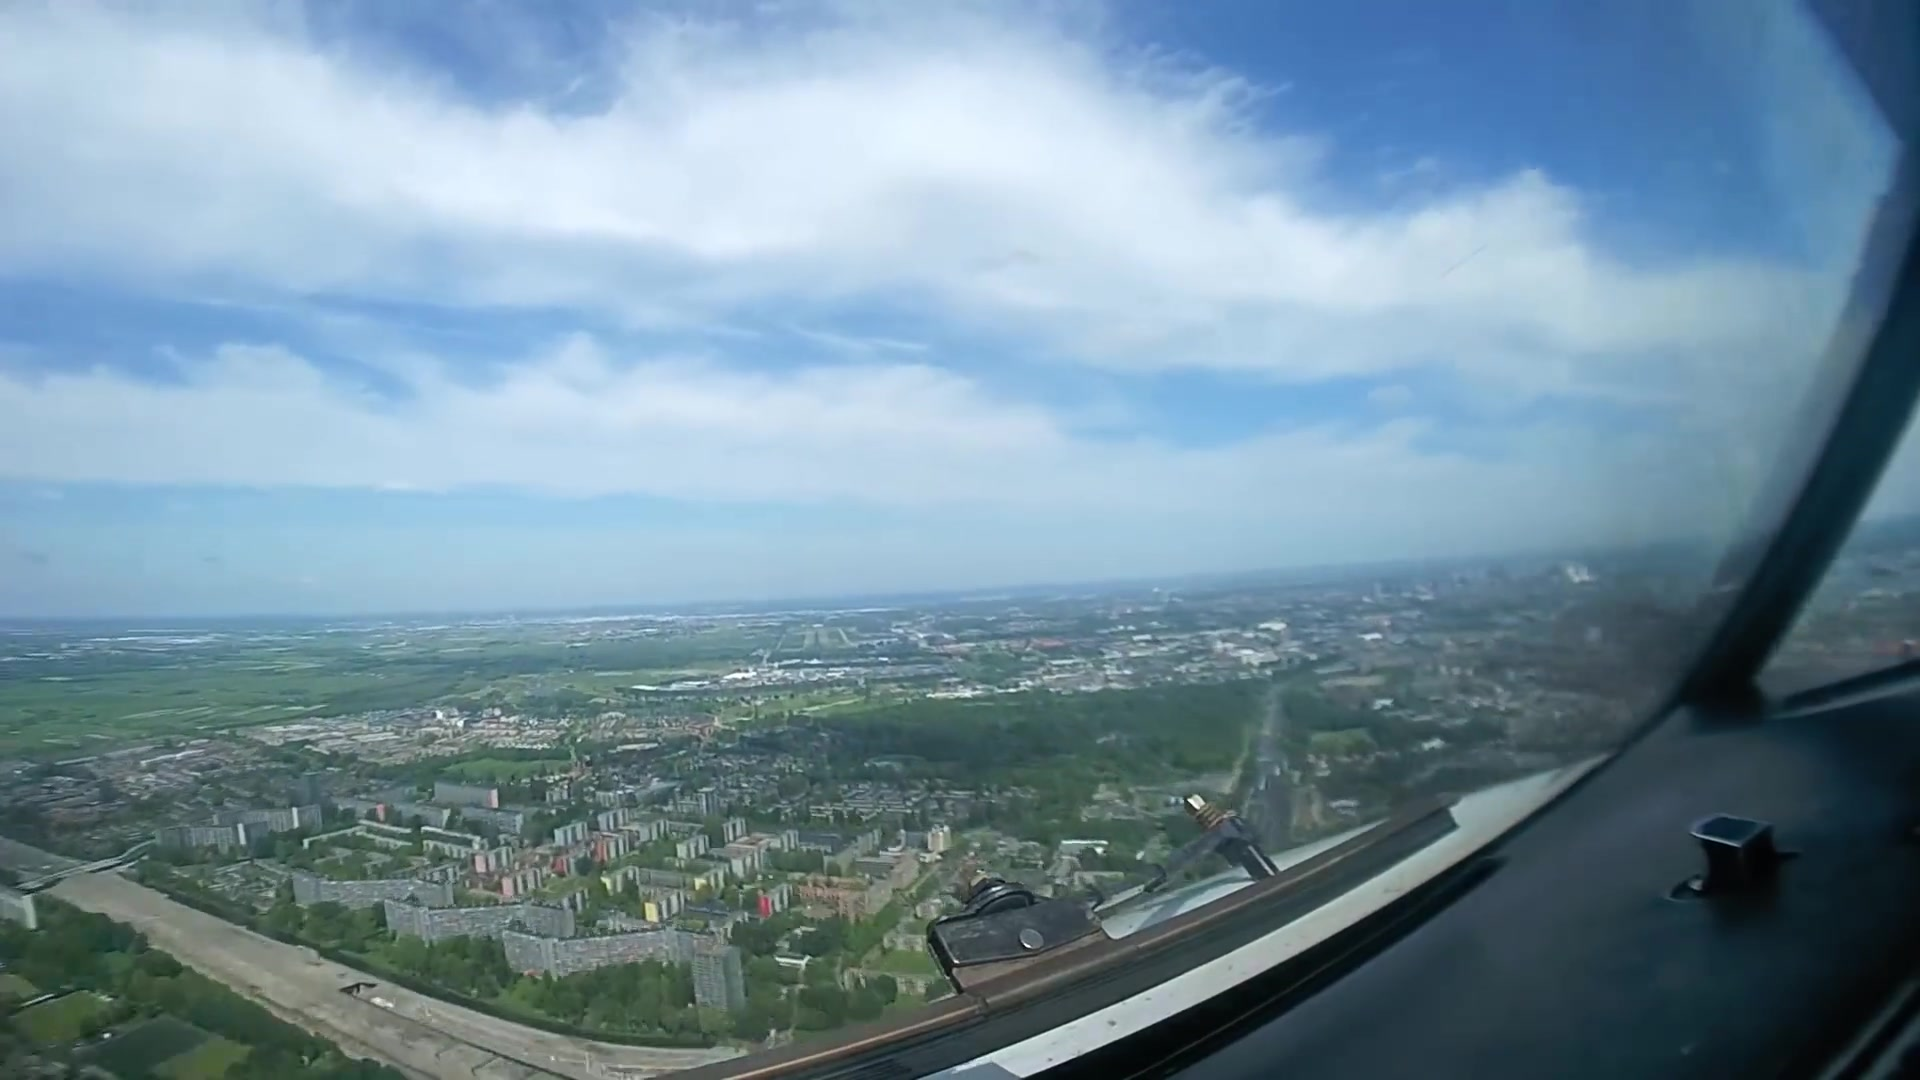runway: (804, 626, 825, 651)
